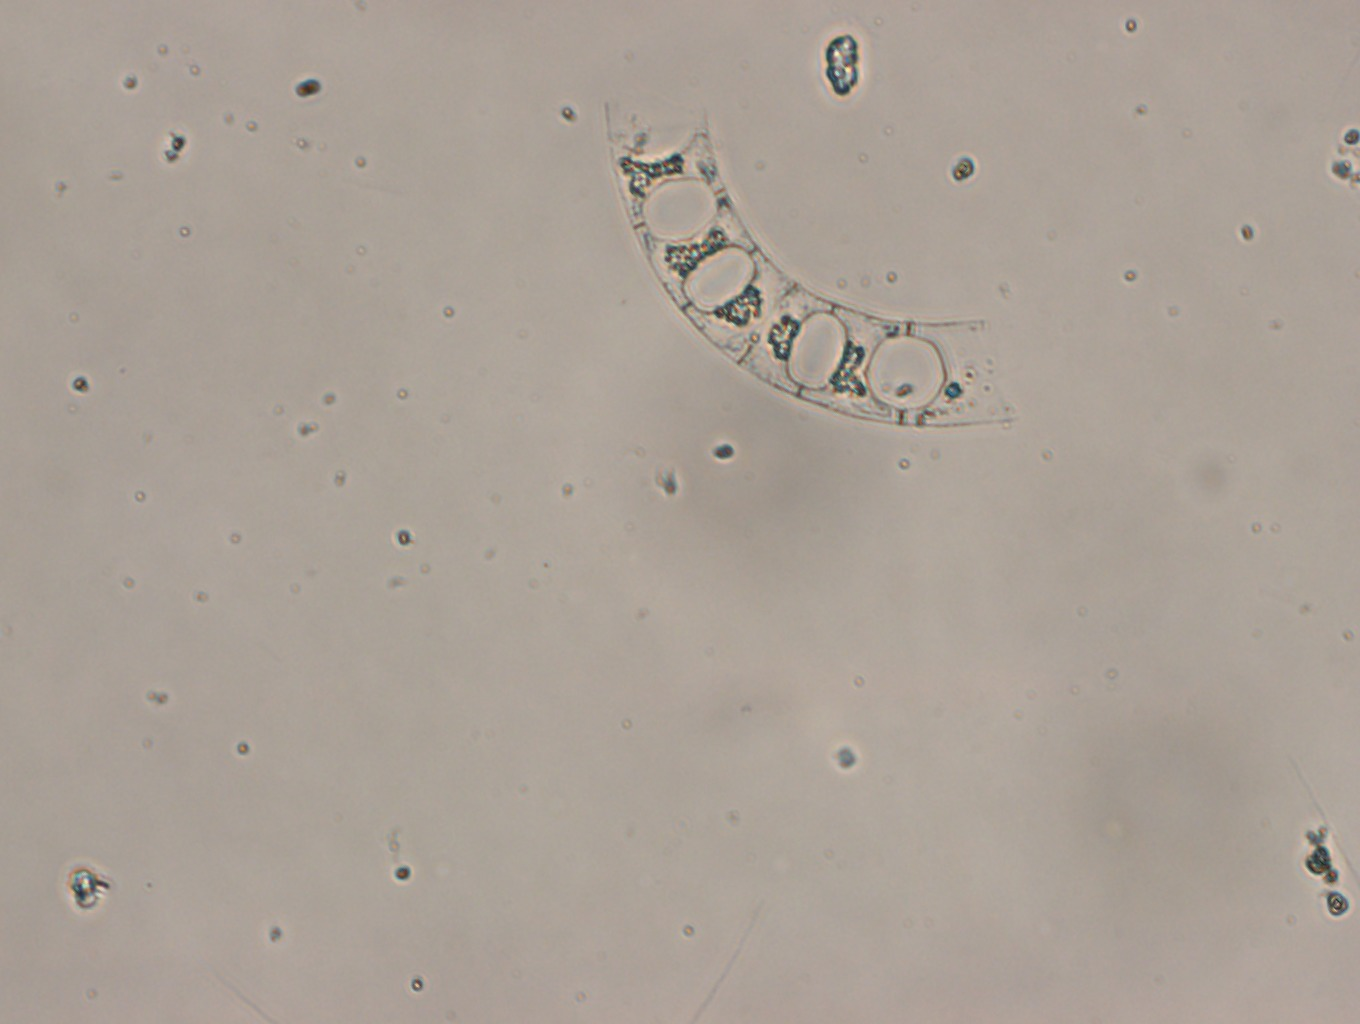eucampia: (607, 102, 1015, 425)
